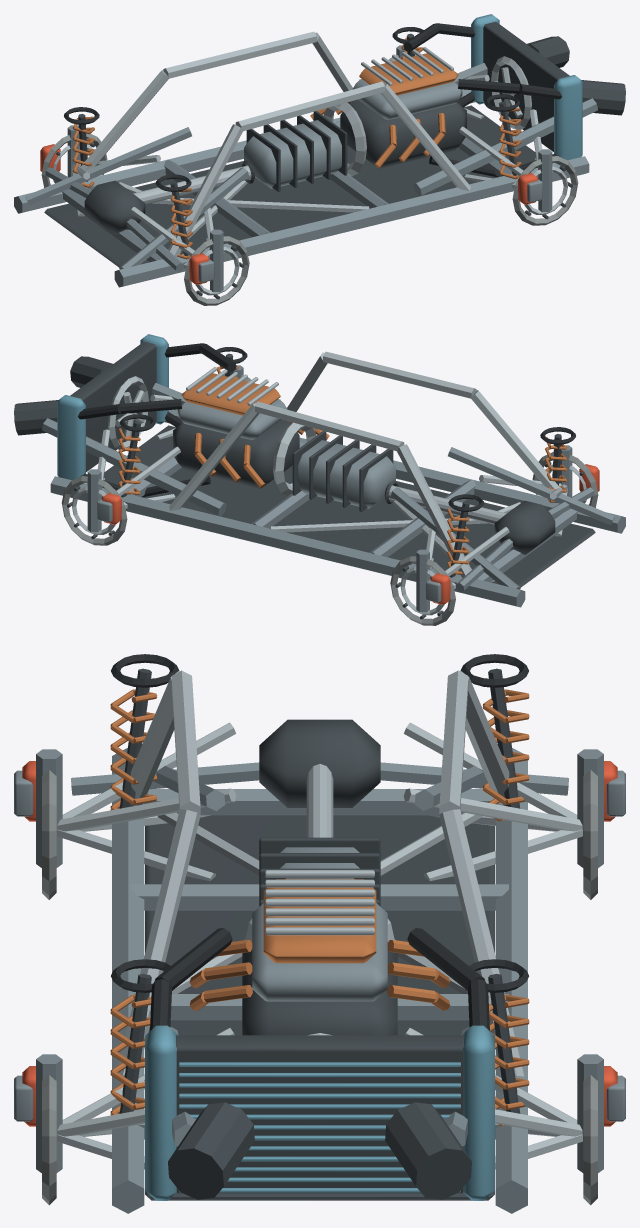
The model's file is race-internals.glb.
3 views of the same model, one above another, from view 1: azimuth 30°, elevation 25°; view 2: azimuth 150°, elevation 25°; view 3: azimuth 270°, elevation 25° (orthographic). The views are drawn at different scales.
Parts seen in each view (by area): view 1: System_chassis, System_drivetrain, System_cooling, System_suspension, System_brakes; view 2: System_chassis, System_drivetrain, System_cooling, System_suspension, System_brakes; view 3: System_chassis, System_cooling, System_drivetrain, System_suspension, System_brakes.
Boxes of the visible parts, box(x1,y1,x2,y2) form: System_chassis: box(14, 31, 597, 287); System_drivetrain: box(45, 47, 466, 271); System_cooling: box(403, 14, 625, 177); System_suspension: box(64, 27, 552, 292); System_brakes: box(40, 54, 578, 305); System_chassis: box(42, 351, 625, 607); System_drivetrain: box(173, 367, 594, 591); System_cooling: box(14, 334, 236, 497); System_suspension: box(87, 347, 575, 612); System_brakes: box(61, 374, 599, 625); System_chassis: box(112, 670, 527, 1213); System_cooling: box(145, 928, 494, 1200); System_drivetrain: box(71, 719, 568, 1035); System_suspension: box(36, 654, 603, 1172); System_brakes: box(14, 761, 625, 1205).
Bounding box in the file's own units: 4.1 × 1.1 × 2.17.
